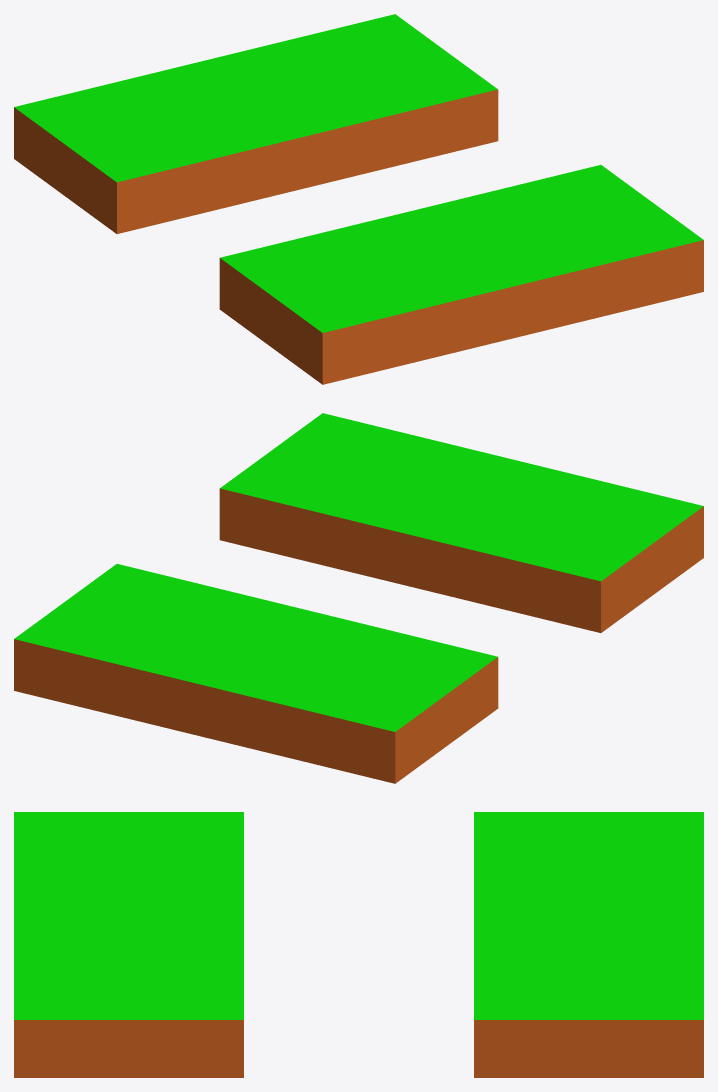
Rendered from Ground_5.fbx.
The picture shows the model from 3 angles, top to bottom: view 1: azimuth 30°, elevation 25°; view 2: azimuth 150°, elevation 25°; view 3: azimuth 270°, elevation 25°; orthographic projection. The views are drawn at different scales.
Parts seen in each view (by area): view 1: Ground_5; view 2: Ground_5; view 3: Ground_5.
Boxes of the visible parts, x1,y1,x2,y2 form: Ground_5: (14,14,703,384); Ground_5: (14,413,703,783); Ground_5: (14,812,703,1077).
Bounding box in the file's own units: 13.84 × 1.8 × 19.4.
